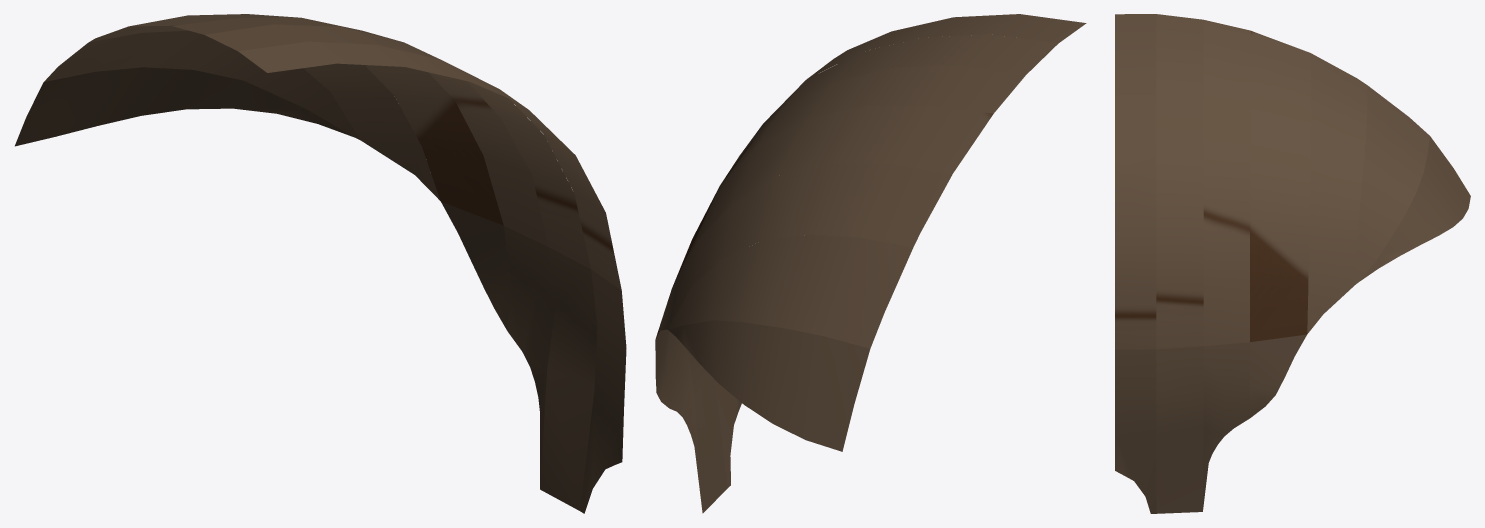
Rendered from Front_right_helm.fbx.
3 renders of one model, left to right at view 1: azimuth 30°, elevation 25°; view 2: azimuth 150°, elevation 25°; view 3: azimuth 270°, elevation 25°, orthographic. The views are drawn at different scales.
Parts seen in each view (by area): view 1: Front_right_helm_5_11, Front_right_helm_5_4, Front_right_helm_5_7, Front_right_helm_5_10, Front_right_helm_5_3, Front_right_helm_5_1, Front_right_helm_5_5, Front_right_helm_5_9, Front_right_helm_5_2, Front_right_helm_5_6, Front_right_helm_5_8; view 2: Front_right_helm_5_10, Front_right_helm_5_9, Front_right_helm_5_11, Front_right_helm_5_7, Front_right_helm_5_5, Front_right_helm_5_3, Front_right_helm_5_1, Front_right_helm_5_4, Front_right_helm_5_6, Front_right_helm_5_2, Front_right_helm_5_8; view 3: Front_right_helm_5_7, Front_right_helm_5_3, Front_right_helm_5_5, Front_right_helm_5_1, Front_right_helm_5_9, Front_right_helm_5_10, Front_right_helm_5_4, Front_right_helm_5_2, Front_right_helm_5_11, Front_right_helm_5_6, Front_right_helm_5_8.
Part boxes in pixels (<box>): Front_right_helm_5_11: <box>15,67,353,146</box>; Front_right_helm_5_4: <box>540,247,597,510</box>; Front_right_helm_5_7: <box>130,14,503,225</box>; Front_right_helm_5_10: <box>44,30,360,140</box>; Front_right_helm_5_3: <box>205,24,590,268</box>; Front_right_helm_5_1: <box>238,41,621,289</box>; Front_right_helm_5_5: <box>172,17,548,246</box>; Front_right_helm_5_9: <box>89,26,440,200</box>; Front_right_helm_5_2: <box>580,270,626,513</box>; Front_right_helm_5_6: <box>504,226,555,486</box>; Front_right_helm_5_8: <box>441,201,510,330</box>; Front_right_helm_5_10: <box>667,234,912,348</box>; Front_right_helm_5_9: <box>658,163,951,330</box>; Front_right_helm_5_11: <box>668,320,870,451</box>; Front_right_helm_5_7: <box>655,105,993,339</box>; Front_right_helm_5_5: <box>720,65,1025,184</box>; Front_right_helm_5_3: <box>740,34,1057,154</box>; Front_right_helm_5_1: <box>770,14,1086,116</box>; Front_right_helm_5_4: <box>688,351,727,513</box>; Front_right_helm_5_6: <box>666,331,702,512</box>; Front_right_helm_5_2: <box>715,380,741,487</box>; Front_right_helm_5_8: <box>655,329,669,407</box>; Front_right_helm_5_7: <box>1250,31,1311,342</box>; Front_right_helm_5_3: <box>1156,14,1203,349</box>; Front_right_helm_5_5: <box>1203,20,1250,346</box>; Front_right_helm_5_1: <box>1115,14,1156,349</box>; Front_right_helm_5_9: <box>1307,53,1367,333</box>; Front_right_helm_5_10: <box>1355,85,1429,284</box>; Front_right_helm_5_4: <box>1156,346,1203,513</box>; Front_right_helm_5_2: <box>1115,349,1156,513</box>; Front_right_helm_5_11: <box>1358,136,1470,282</box>; Front_right_helm_5_6: <box>1203,342,1249,509</box>; Front_right_helm_5_8: <box>1250,334,1306,417</box>.
Size of the model in its own units: 9.16 by 13.26 by 11.17.
